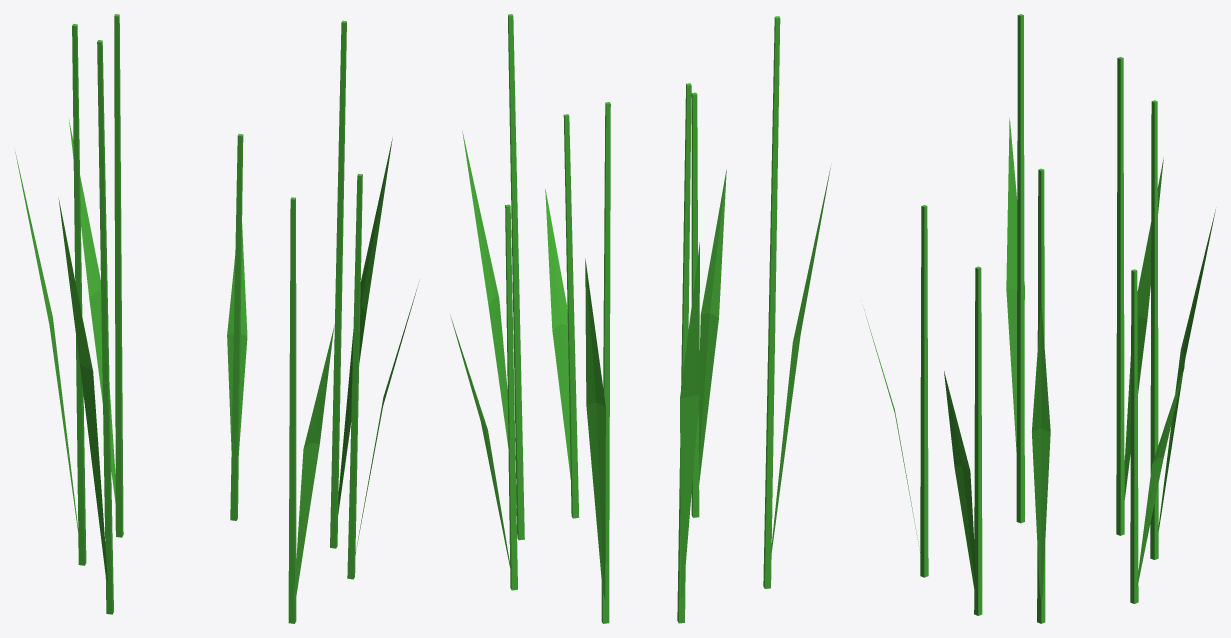
File: reed_cluster_b.fbx
3 renders of one model, left to right at view 1: azimuth 30°, elevation 25°; view 2: azimuth 150°, elevation 25°; view 3: azimuth 270°, elevation 25°, orthographic. The views are drawn at different scales.
Parts seen in each view (by area): view 1: reed_cluster_b; view 2: reed_cluster_b; view 3: reed_cluster_b.
Part boxes in pixels (x1,y1,x2,y2): reed_cluster_b: (14, 14, 419, 623); reed_cluster_b: (450, 14, 830, 623); reed_cluster_b: (864, 14, 1215, 623).
Size of the model in its own units: 1.8 by 2.8 by 1.8.
